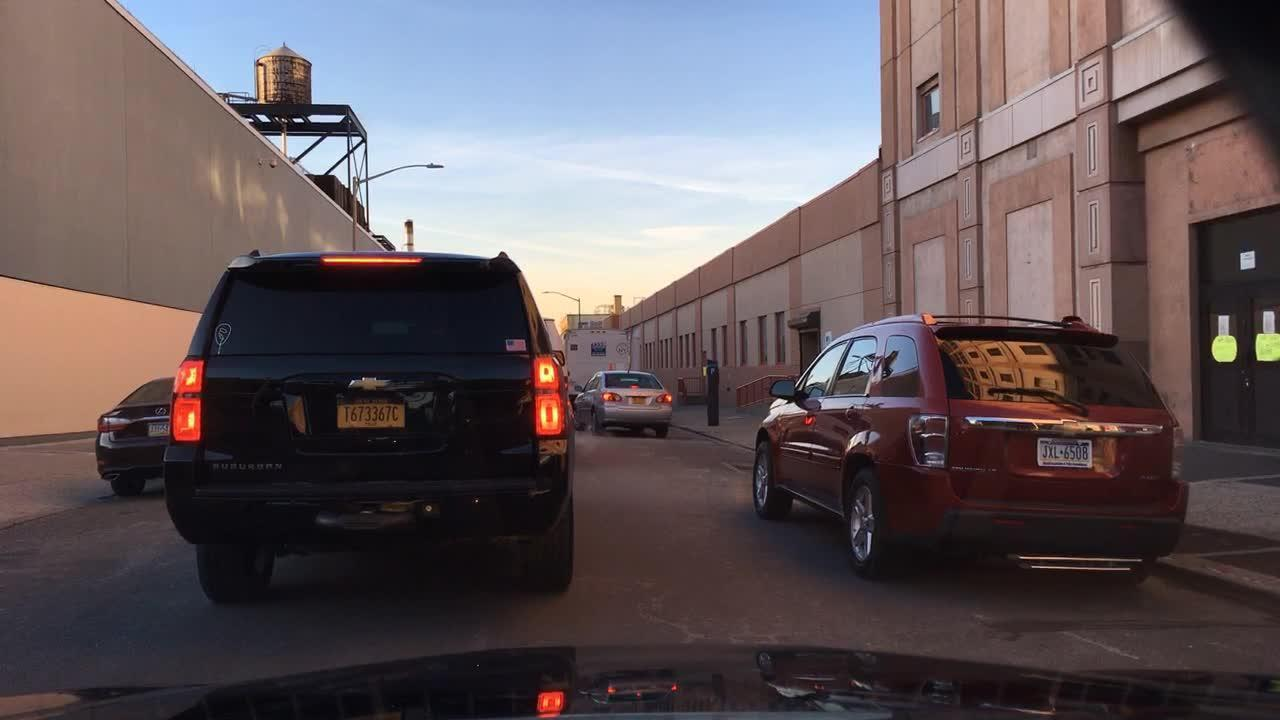chevrolet: (331, 361, 413, 401), (1049, 416, 1092, 440)
lexus: (151, 405, 173, 420)
